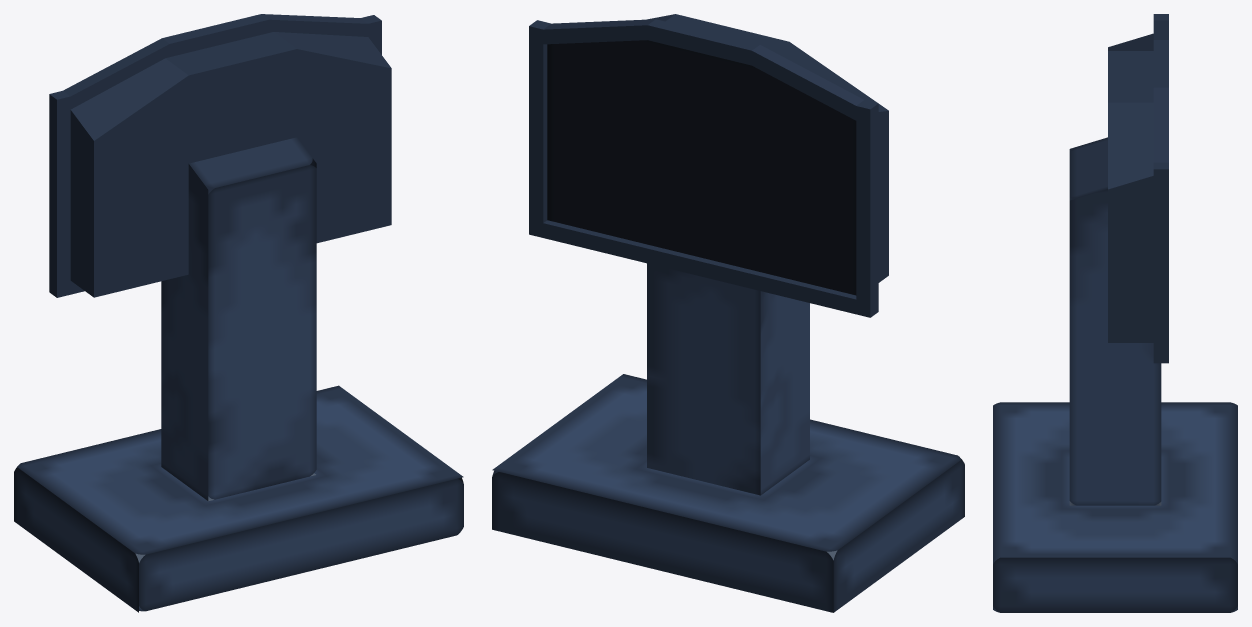
The model's file is Panels.fbx.
3 views of the same model, side by side, from view 1: azimuth 30°, elevation 25°; view 2: azimuth 150°, elevation 25°; view 3: azimuth 270°, elevation 25° (orthographic). The views are drawn at different scales.
Parts seen in each view (by area): view 1: cuboid, cuboid_selection_1, cuboid_1; view 2: cuboid, cuboid_selection, cuboid_1, cuboid_selection_1; view 3: cuboid, cuboid_selection_1, cuboid_1.
Part boxes in pixels (x1=…): cuboid: x1=14, y1=137, x2=463, y2=612; cuboid_selection_1: x1=70, y1=32, x2=391, y2=297; cuboid_1: x1=49, y1=14, x2=381, y2=297; cuboid: x1=492, y1=263, x2=964, y2=612; cuboid_selection: x1=547, y1=40, x2=856, y2=295; cuboid_1: x1=529, y1=19, x2=878, y2=317; cuboid_selection_1: x1=647, y1=14, x2=888, y2=282; cuboid: x1=993, y1=137, x2=1237, y2=612; cuboid_selection_1: x1=1108, y1=33, x2=1153, y2=342; cuboid_1: x1=1153, y1=14, x2=1168, y2=363.
Bounding box in the file's own units: 150 × 212 × 100.
Materials: 3 (3 with a texture image).
